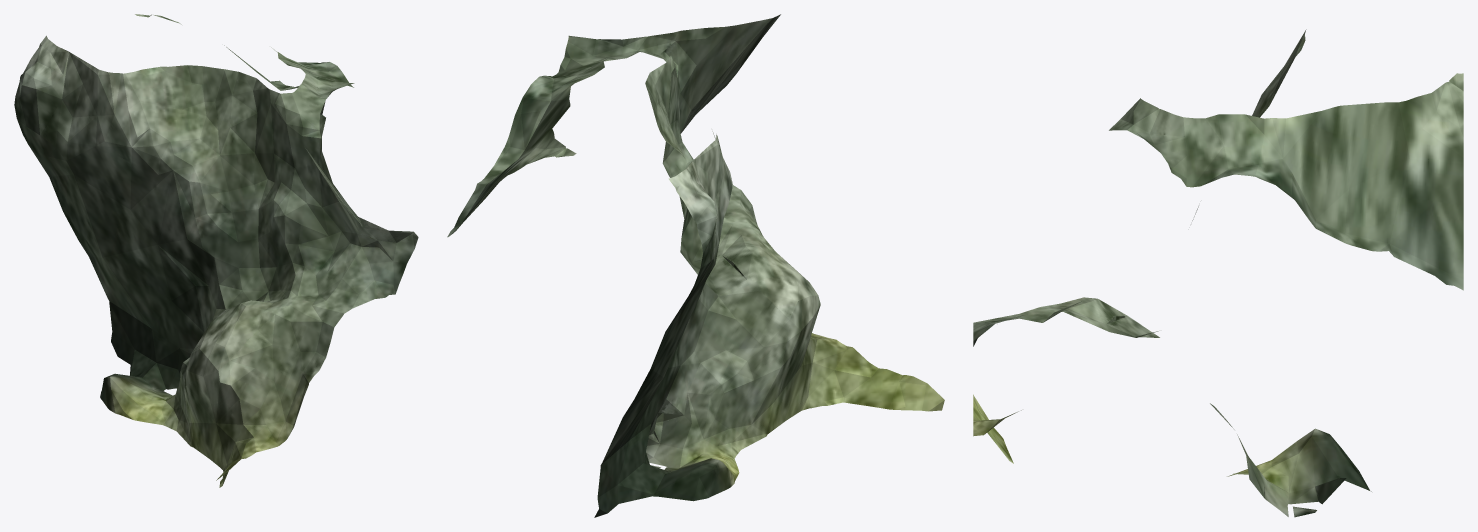
3 views of the same model, side by side, from view 1: azimuth 30°, elevation 25°; view 2: azimuth 150°, elevation 25°; view 3: azimuth 270°, elevation 25° (orthographic). The views are drawn at different scales.
Size of the model in its own units: 2.6 by 2.95 by 2.95.
4 materials, 4 textured.
